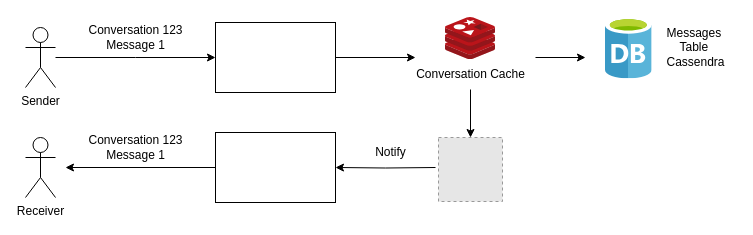
This 753x235 diagram has some shape labels left out. Grey dashed boxes stand in for pictures. Each missing label, with the box of its shape:
WebSocket Server 1: (214, 22, 336, 92)
WebSocket Server 2: (214, 132, 336, 202)
